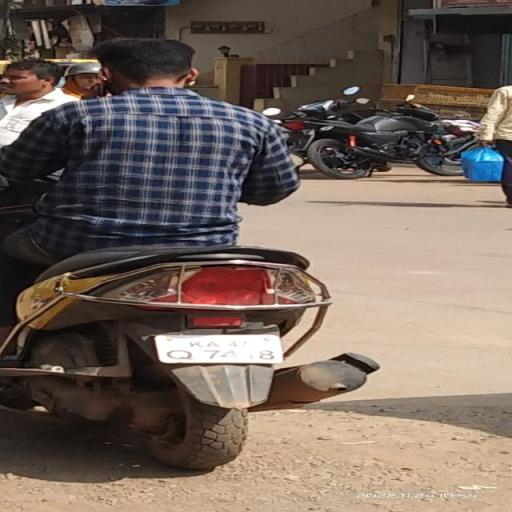bike: (6, 33, 384, 474)
numberplate: (161, 331, 280, 364)
withouthelmet: (98, 40, 192, 86)
